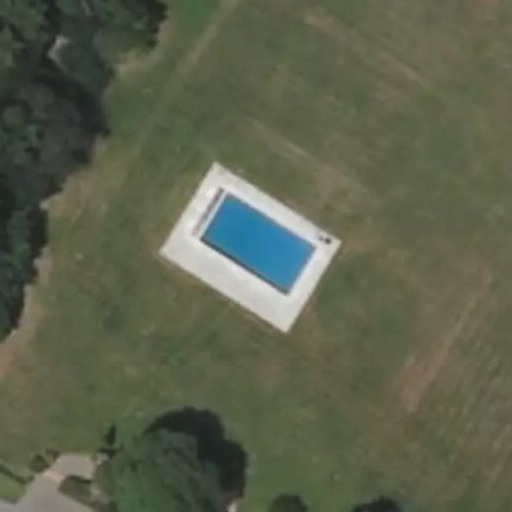pool: (193, 234, 318, 249)
